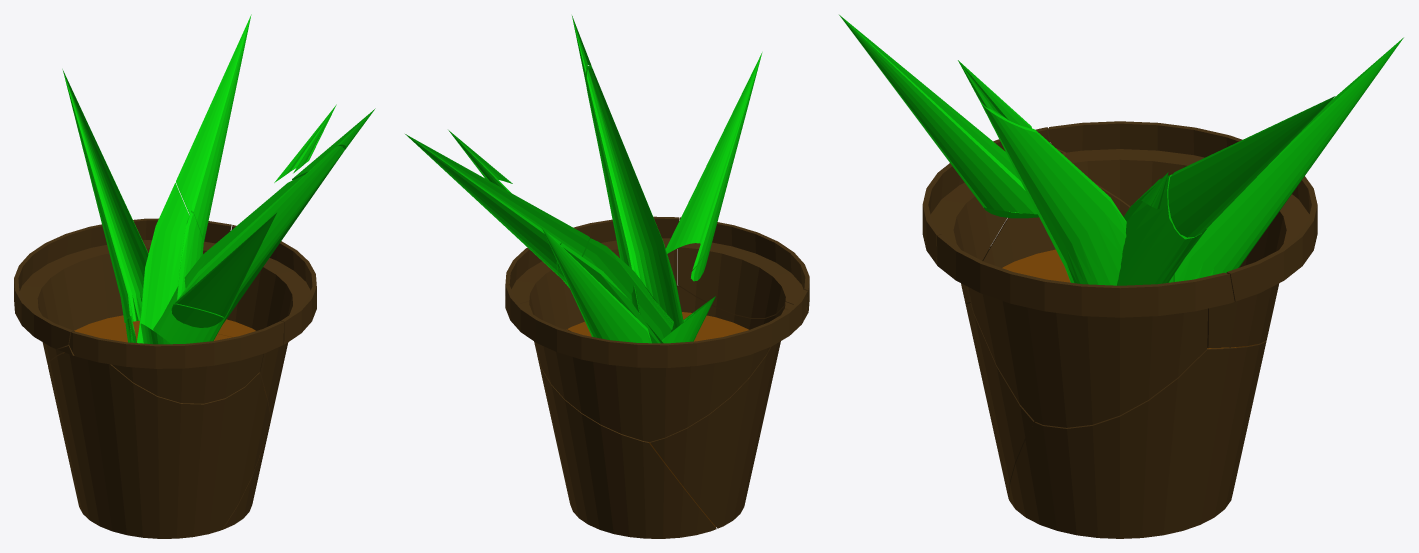
File: Pflanze_kaputt.glb
3 views of the same model, side by side, from view 1: azimuth 30°, elevation 25°; view 2: azimuth 150°, elevation 25°; view 3: azimuth 270°, elevation 25° (orthographic). The views are drawn at different scales.
Parts seen in each view (by area): view 1: Topf_cell.005, Topf_cell.006, Topf_cell.002, Blatt.006_cell, Topf_cell, Blatt_cell.005, Blatt.004_cell.003, Blatt.004_cell.005, Blatt.001_cell.007, Dreck_cell.005, Topf_cell.003, Blatt.001_cell.006 (+2 smaller); view 2: Topf_cell.006, Topf_cell.003, Topf_cell.005, Topf_cell.002, Blatt.006_cell, Topf_cell, Blatt.004_cell.005, Blatt.001_cell.007, Blatt_cell.005, Blatt.004_cell.003, Dreck_cell.002, Blatt.007_cell (+2 smaller); view 3: Topf_cell.003, Topf_cell, Topf_cell.006, Blatt.006_cell, Blatt_cell.005, Blatt.001_cell.007, Blatt.004_cell.005, Topf_cell.005, Topf_cell.002, Blatt.004_cell.003, Dreck_cell.002, Blatt.006_cell.003.
Boxes of the visible parts, x1,y1,x2,y2 form: Topf_cell.005: [48, 345, 270, 538]; Topf_cell.006: [14, 218, 231, 364]; Topf_cell.002: [69, 321, 283, 403]; Blatt.006_cell: [153, 146, 344, 344]; Topf_cell: [227, 225, 316, 419]; Blatt_cell.005: [62, 69, 148, 322]; Blatt.004_cell.003: [137, 183, 203, 343]; Blatt.004_cell.005: [176, 14, 251, 242]; Blatt.001_cell.007: [174, 213, 276, 317]; Dreck_cell.005: [74, 315, 231, 342]; Topf_cell.003: [77, 418, 271, 529]; Blatt.001_cell.006: [171, 304, 223, 327]; Topf_cell.006: [505, 285, 807, 441]; Topf_cell.003: [537, 355, 716, 538]; Topf_cell.005: [650, 286, 808, 528]; Topf_cell.002: [678, 217, 809, 318]; Blatt.006_cell: [586, 65, 683, 331]; Topf_cell: [505, 216, 679, 329]; Blatt.004_cell.005: [405, 134, 590, 277]; Blatt.001_cell.007: [666, 52, 762, 269]; Blatt_cell.005: [541, 227, 651, 343]; Blatt.004_cell.003: [557, 238, 673, 343]; Dreck_cell.002: [567, 312, 748, 341]; Blatt.007_cell: [661, 296, 715, 343]; Topf_cell.003: [1009, 339, 1266, 538]; Topf_cell: [936, 234, 1234, 427]; Topf_cell.006: [1048, 121, 1317, 348]; Blatt.006_cell: [980, 101, 1126, 285]; Blatt_cell.005: [1173, 37, 1403, 281]; Blatt.001_cell.007: [839, 15, 1037, 214]; Blatt.004_cell.005: [1168, 96, 1335, 237]; Topf_cell.005: [965, 148, 1130, 498]; Topf_cell.002: [922, 127, 1050, 303]; Blatt.004_cell.003: [1117, 174, 1207, 285]; Dreck_cell.002: [1002, 249, 1070, 426]; Blatt.006_cell.003: [958, 60, 1031, 128].
Size of the model in its own units: 0.8528 by 1.02 by 0.9989.
